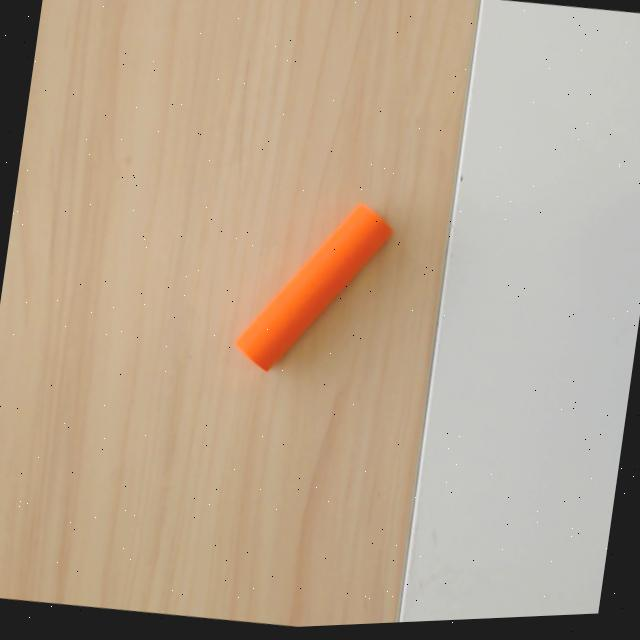Silinder-Jingga-10025: (231, 199, 396, 374)
